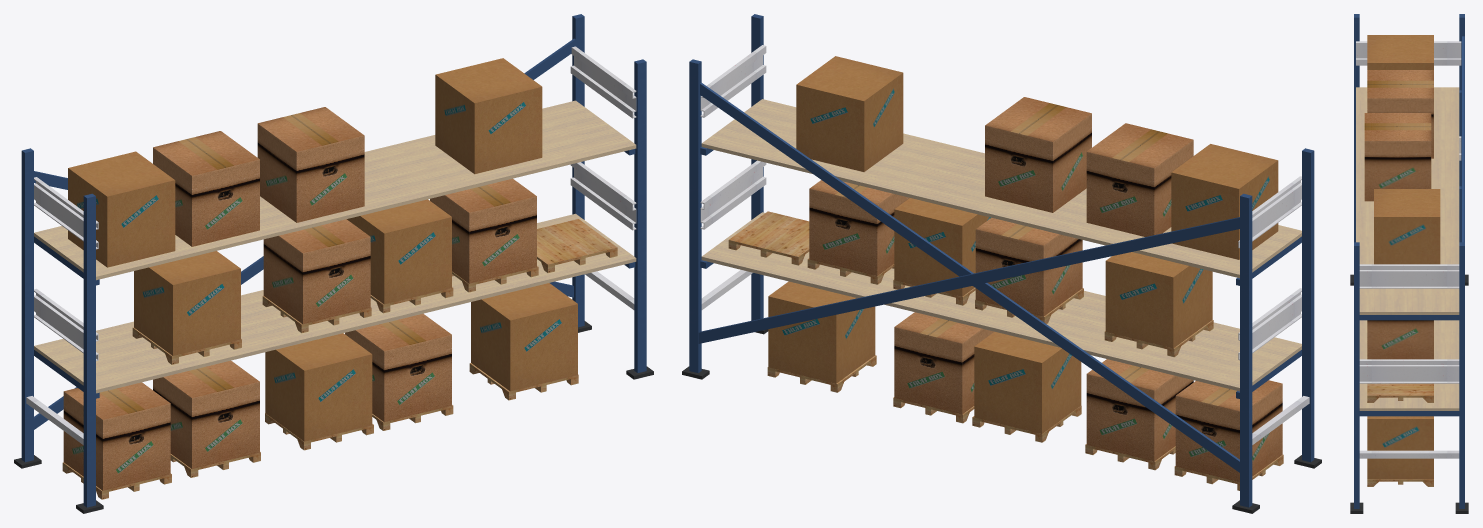
Rendered from BigShelves04Group2.FBX.
3 views of the same model, side by side, from view 1: azimuth 30°, elevation 25°; view 2: azimuth 150°, elevation 25°; view 3: azimuth 270°, elevation 25° (orthographic). The views are drawn at different scales.
Parts seen in each view (by area): view 1: Cardboard_box01, Cardboard_box05, BigShelves04, BigShelvesWoodBox; view 2: BigShelves04, Cardboard_box01, Cardboard_box05, BigShelvesWoodBox; view 3: BigShelves04, Cardboard_box05, Cardboard_box01, BigShelvesWoodBox.
Boxes of the visible parts, x1,y1,x2,y2 form: Cardboard_box01: (63,107,536,490); Cardboard_box05: (68,58,577,441); BigShelves04: (14,14,653,513); BigShelvesWoodBox: (62,219,617,499); BigShelves04: (682,14,1321,513); Cardboard_box01: (809,97,1282,482); Cardboard_box05: (768,56,1278,433); BigShelvesWoodBox: (728,211,1283,490); BigShelves04: (1350,14,1468,513); Cardboard_box05: (1367,35,1440,479); Cardboard_box01: (1364,70,1433,359); BigShelvesWoodBox: (1367,383,1433,486).
Bounding box in the file's own units: 337 × 177 × 71.17.
